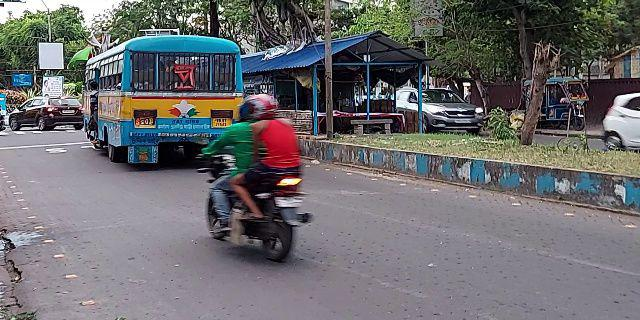Bus: (80, 38, 248, 153)
Car: (9, 91, 80, 133)
Motorbike: (199, 97, 313, 267)
